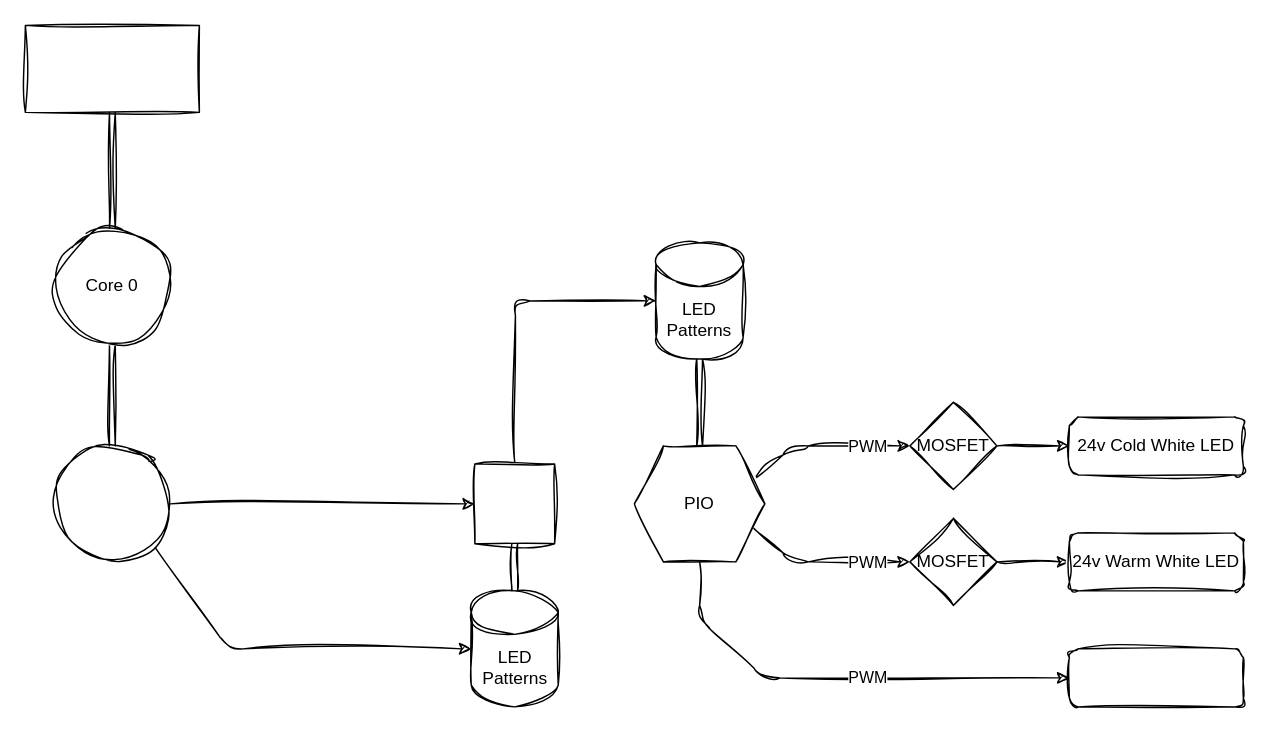
Image size: 1269x732. Some labels were removed from this diagram. Each missing label, with the centre of its shape:
Core 1: point (111, 503)
DMA: point (514, 503)
I2C Bus: point (111, 68)
NeoPixel LED: point (1155, 677)
